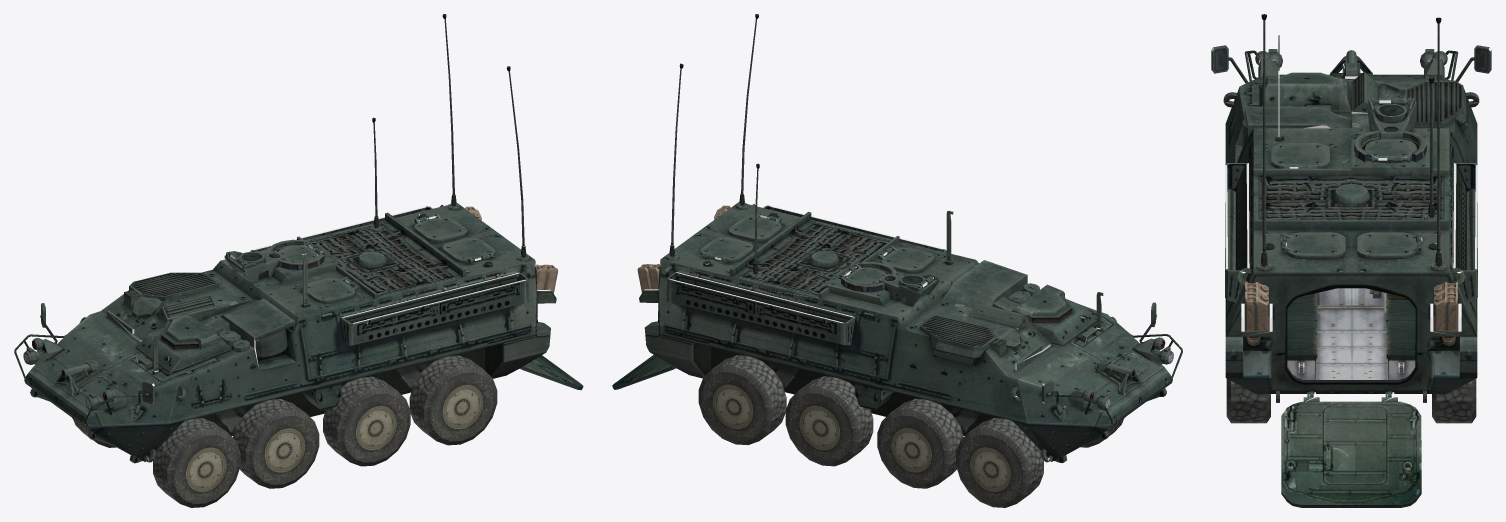
Rendered from car.glb.
3 renders of one model, left to right at view 1: azimuth 30°, elevation 25°; view 2: azimuth 150°, elevation 25°; view 3: azimuth 270°, elevation 25°, orthographic. The views are drawn at different scales.
Parts seen in each view (by area): view 1: ArmyVehicle; view 2: ArmyVehicle; view 3: ArmyVehicle.
Part boxes in pixels (<box>): ArmyVehicle: <box>14,14,583,507</box>; ArmyVehicle: <box>612,14,1182,507</box>; ArmyVehicle: <box>1211,14,1491,507</box>.
Size of the model in its own units: 4.12 by 2.73 by 1.57.
8 materials, 7 textured.
